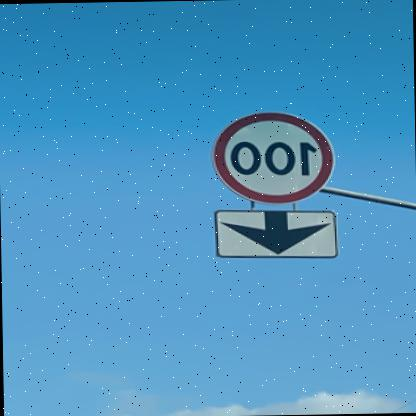speedlimit: (212, 108, 337, 204)
